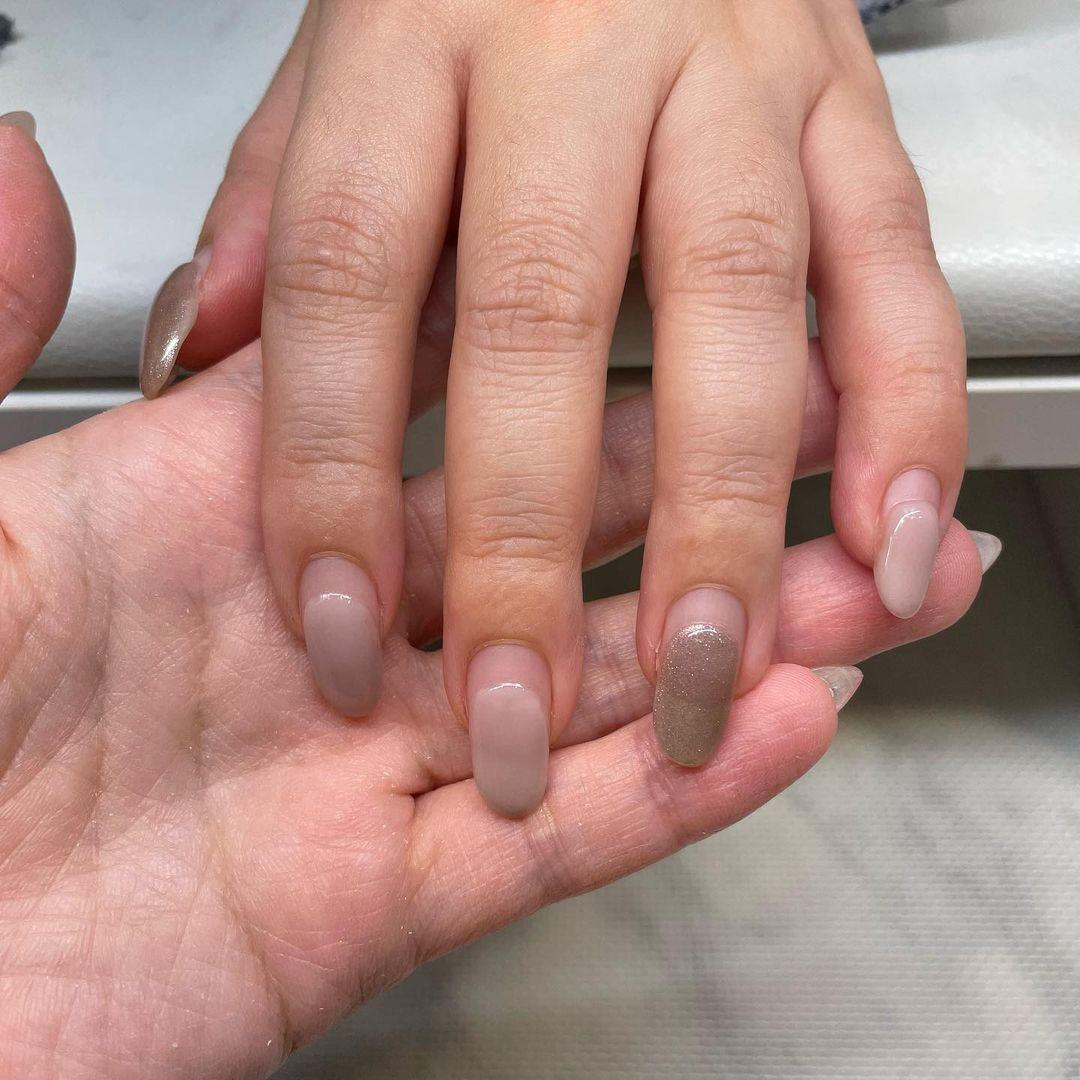nail: (650, 584, 747, 769), (464, 640, 553, 819), (296, 551, 384, 718), (872, 466, 942, 619), (137, 259, 202, 399), (811, 663, 863, 711), (967, 528, 1002, 574)
